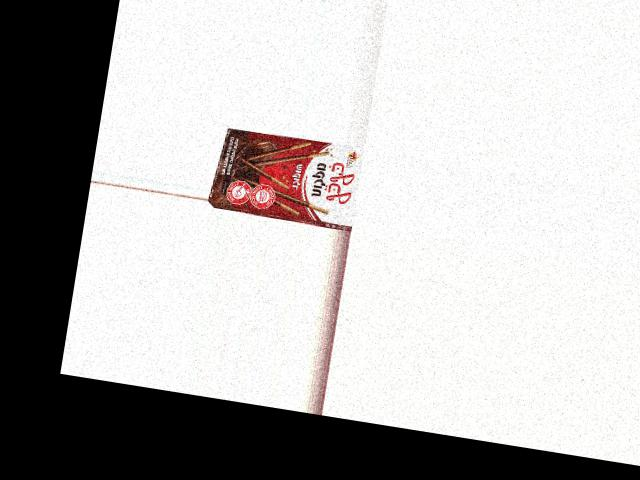chocolate: (216, 125, 364, 230)
